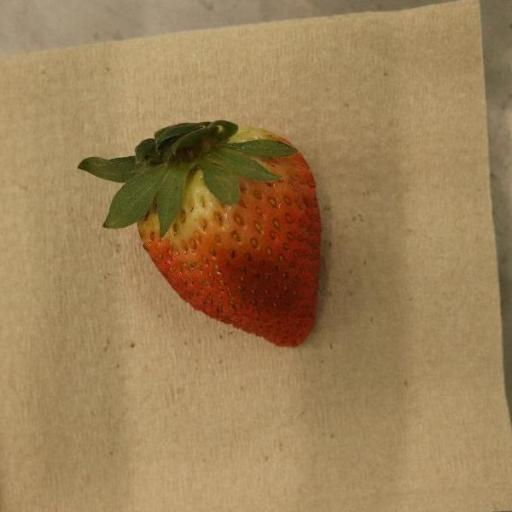Strawberry: (77, 120, 321, 348)
